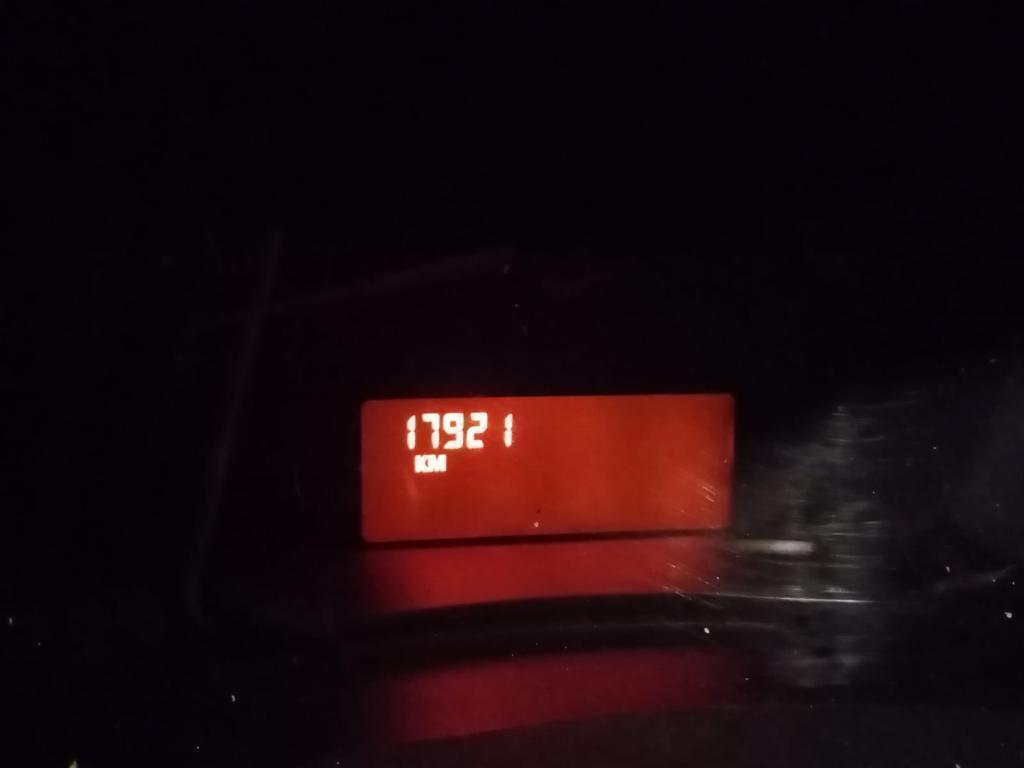1: (498, 407, 517, 451), (402, 410, 417, 452)
2: (466, 410, 490, 450)
7: (420, 410, 442, 450)
9: (442, 410, 464, 451)
X: (428, 453, 447, 473), (414, 453, 428, 473)
odometer: (356, 389, 737, 545)
